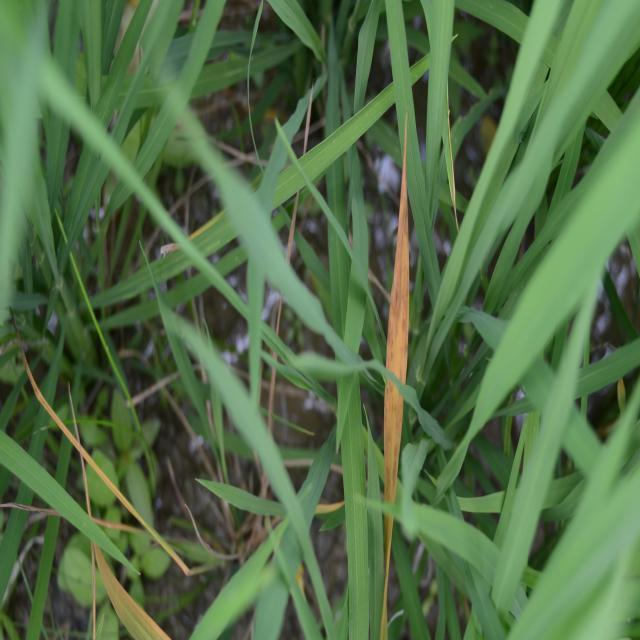Rice Tungro: (372, 108, 423, 636)
